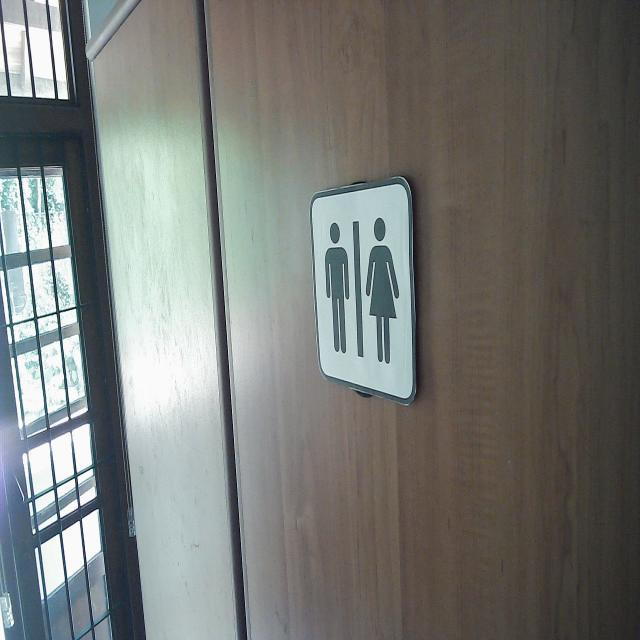restroom: (308, 172, 420, 409)
